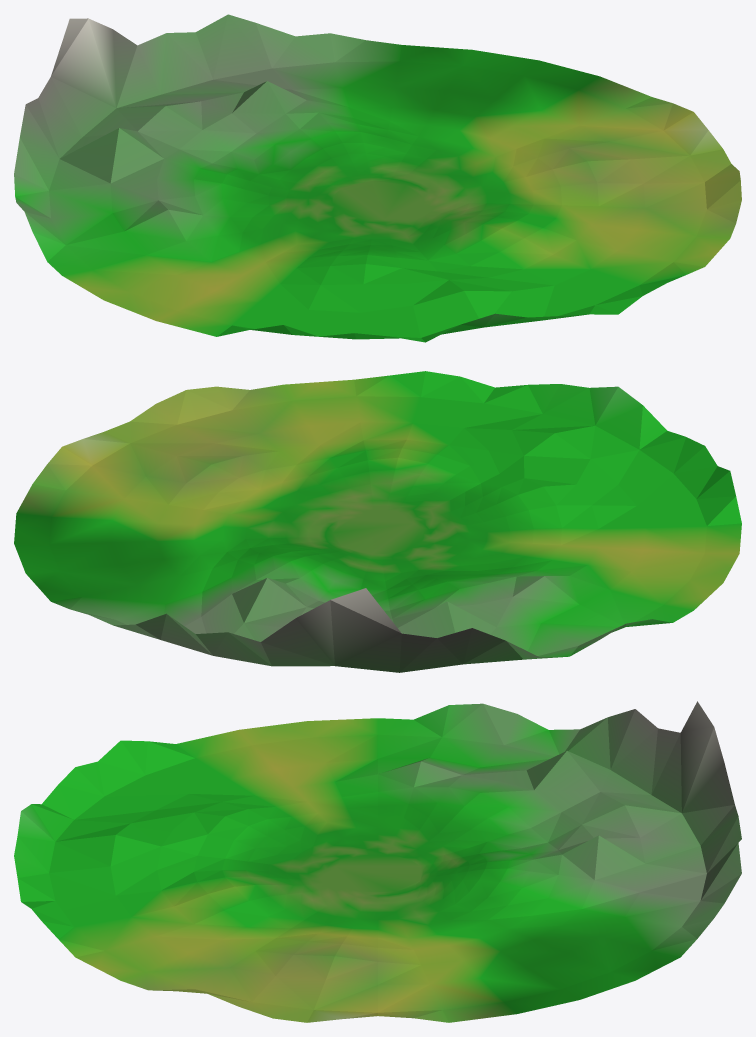
Rendered from BattleBackground.fbx.
3 renders of one model, top to bottom at view 1: azimuth 30°, elevation 25°; view 2: azimuth 150°, elevation 25°; view 3: azimuth 270°, elevation 25°, orthographic.
Visible parts, largest first — view 1: Cylinder; view 2: Cylinder; view 3: Cylinder.
Part boxes in pixels (x1,y1,x2,y2): Cylinder: (14,14,741,342); Cylinder: (14,371,741,672); Cylinder: (14,701,741,1022).
Size of the model in its own units: 22130 by 3369 by 22130.
